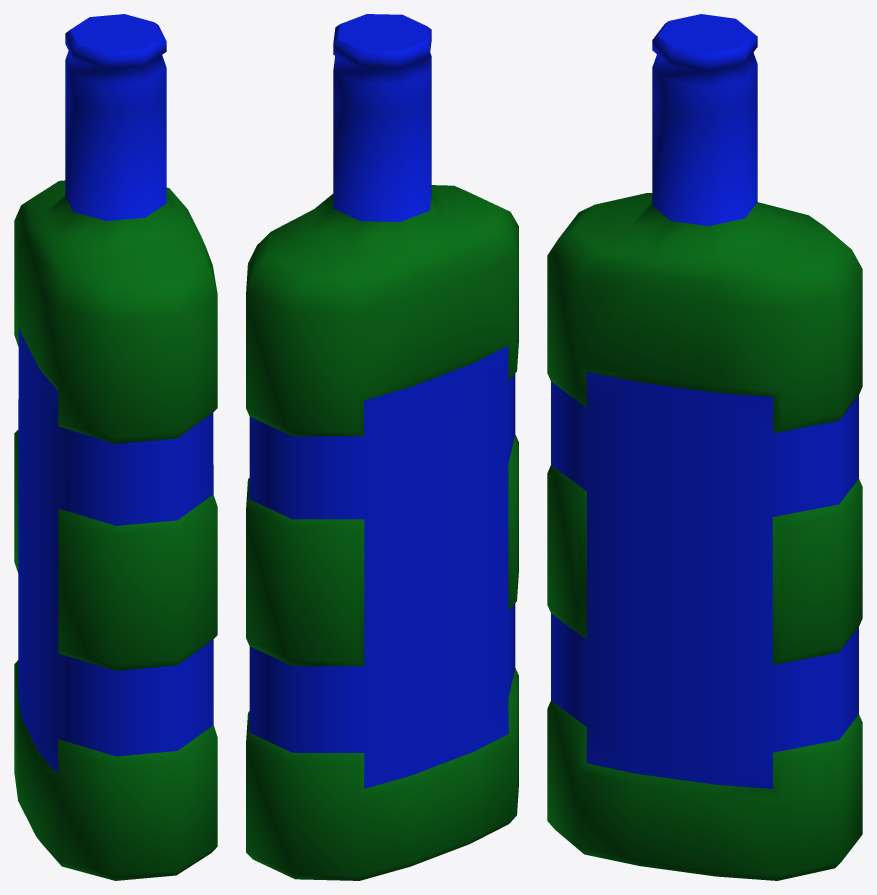
File: GreenAndBlue.fbx
3 views of the same model, side by side, from view 1: azimuth 30°, elevation 25°; view 2: azimuth 150°, elevation 25°; view 3: azimuth 270°, elevation 25° (orthographic). The views are drawn at different scales.
Parts seen in each view (by area): view 1: GreenAndBlue; view 2: GreenAndBlue; view 3: GreenAndBlue.
Boxes of the visible parts, x1=… form: GreenAndBlue: x1=14, y1=14, x2=217, y2=880; GreenAndBlue: x1=246, y1=14, x2=518, y2=880; GreenAndBlue: x1=547, y1=14, x2=862, y2=880.
Size of the model in its own units: 6.13 by 24.16 by 8.61.
